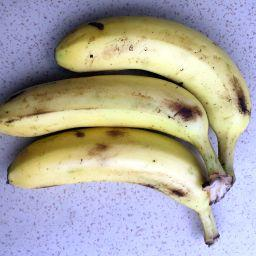banana: (51, 11, 256, 183), (0, 71, 238, 206), (2, 124, 224, 250)
